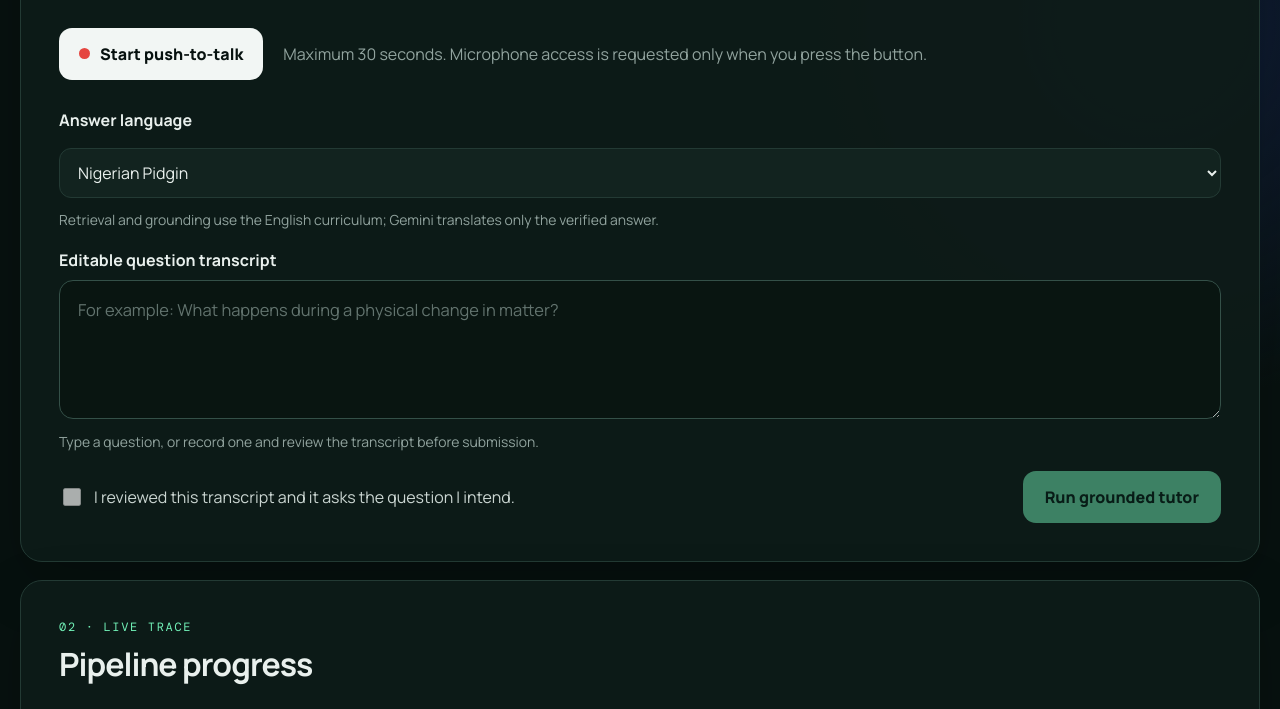
App › renders a distinct refusal and never requests TTS
The image size is (1280, 709).
(page scrolled)
Step 1. Type "Who won the football match?" into the text box labelled "Editable question transcript" → (640, 350), box [59,280,1221,419]
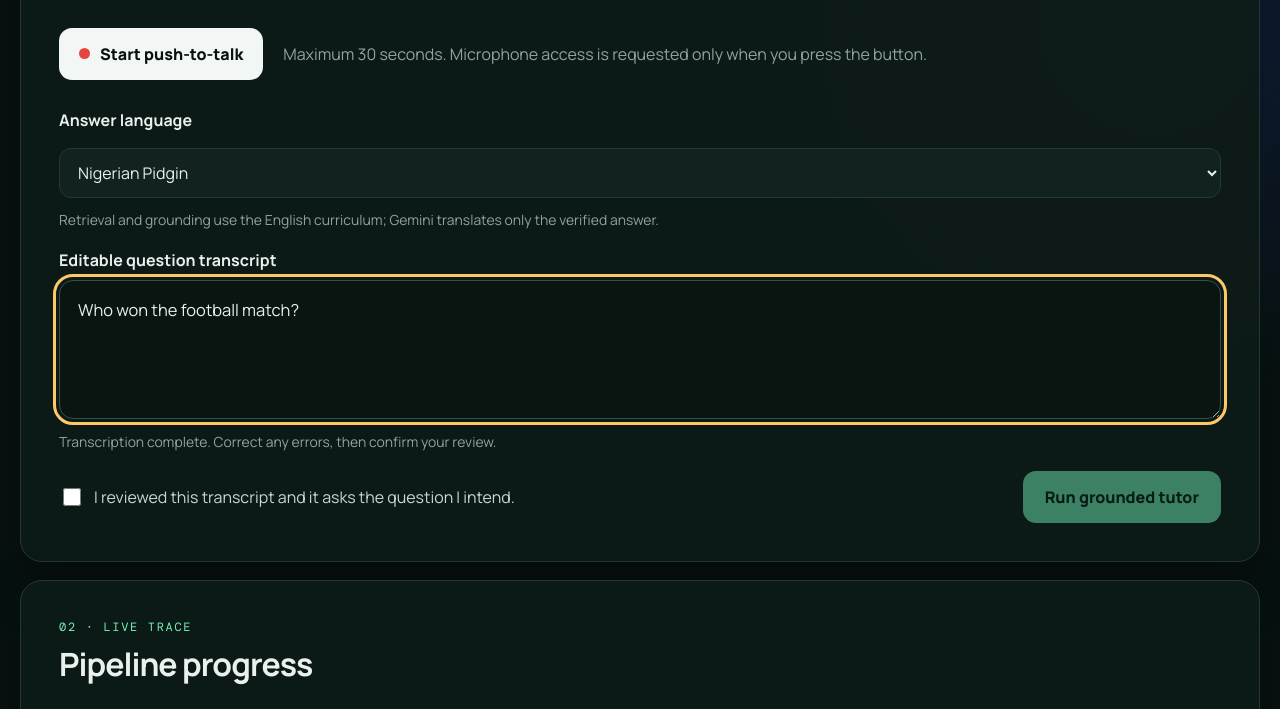
Step 2. Click the checkbox labelled "I reviewed this transcript and it asks the question I intend." → (72, 497), box [63,488,81,506]
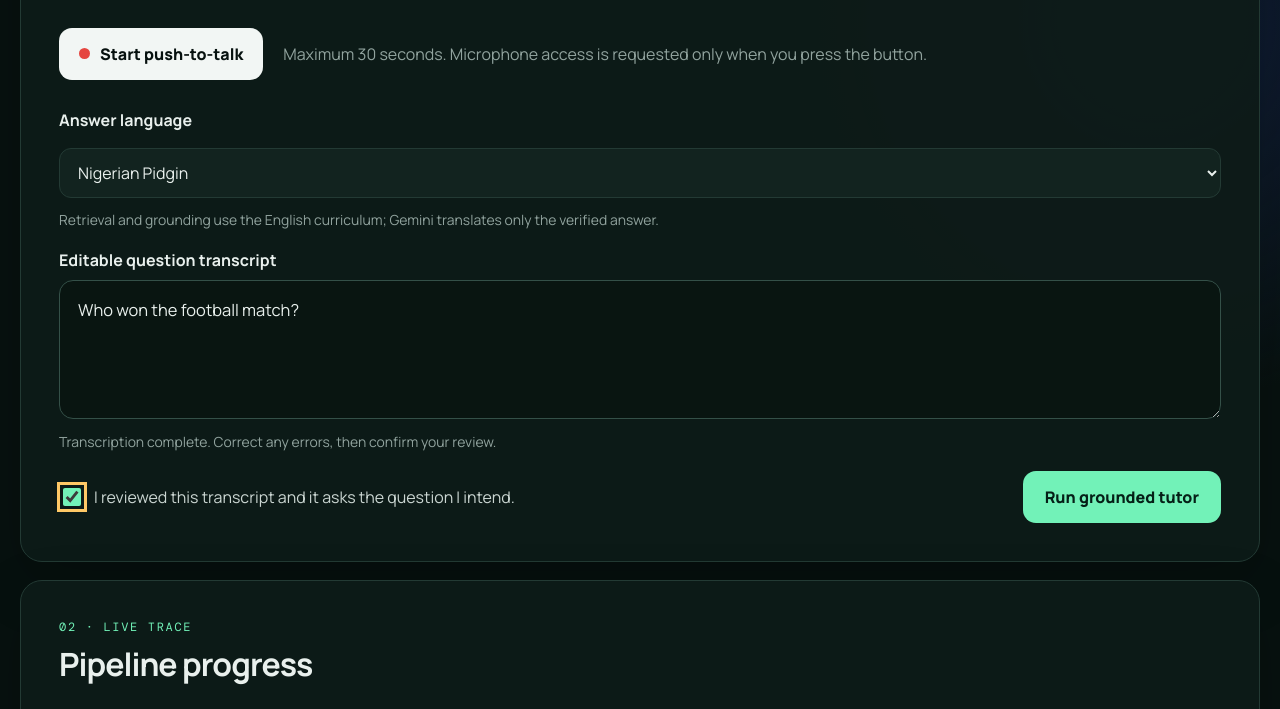
Step 3. Click the button "Run grounded tutor" → (1122, 497), box [1023,471,1221,523]
(page scrolled)
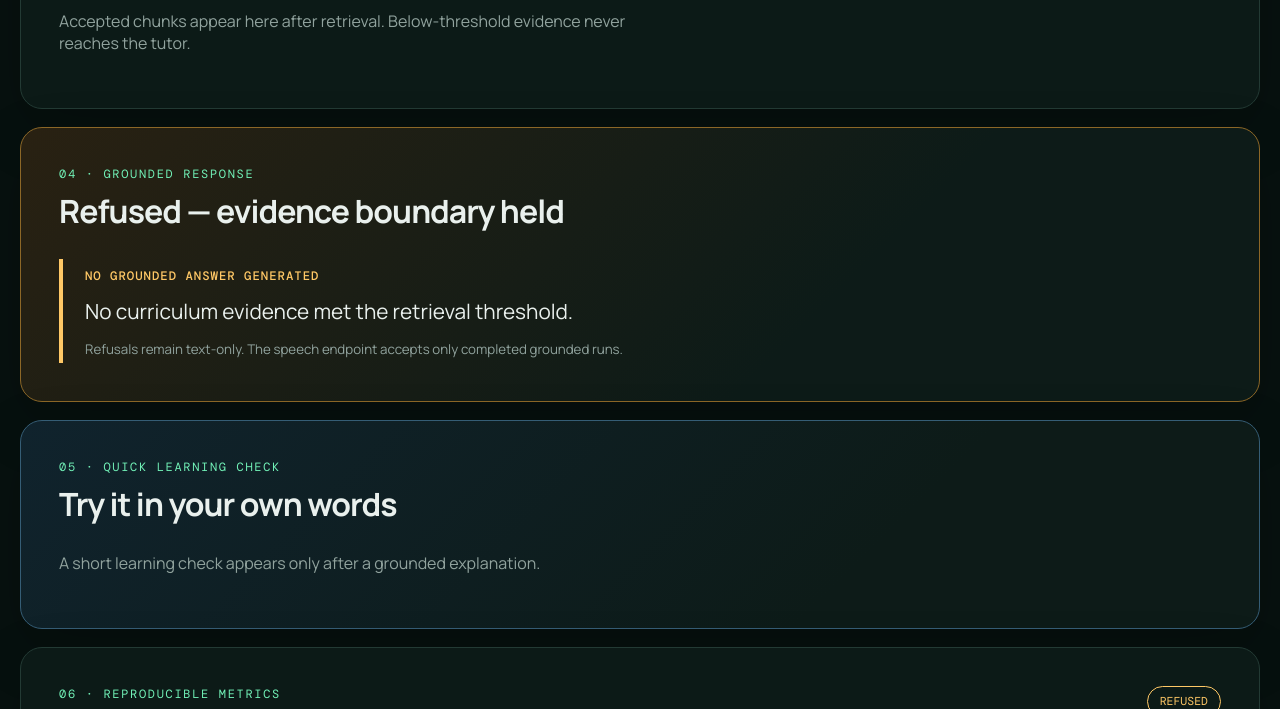
Expected: the heading "Refused — evidence boundary held" is shown, [59,189,564,233]
Expected: the text "NO GROUNDED ANSWER GENERATED" is shown, [85,268,320,284]
Expected: the text "Refusals remain text-only" is shown, [85,340,623,358]
